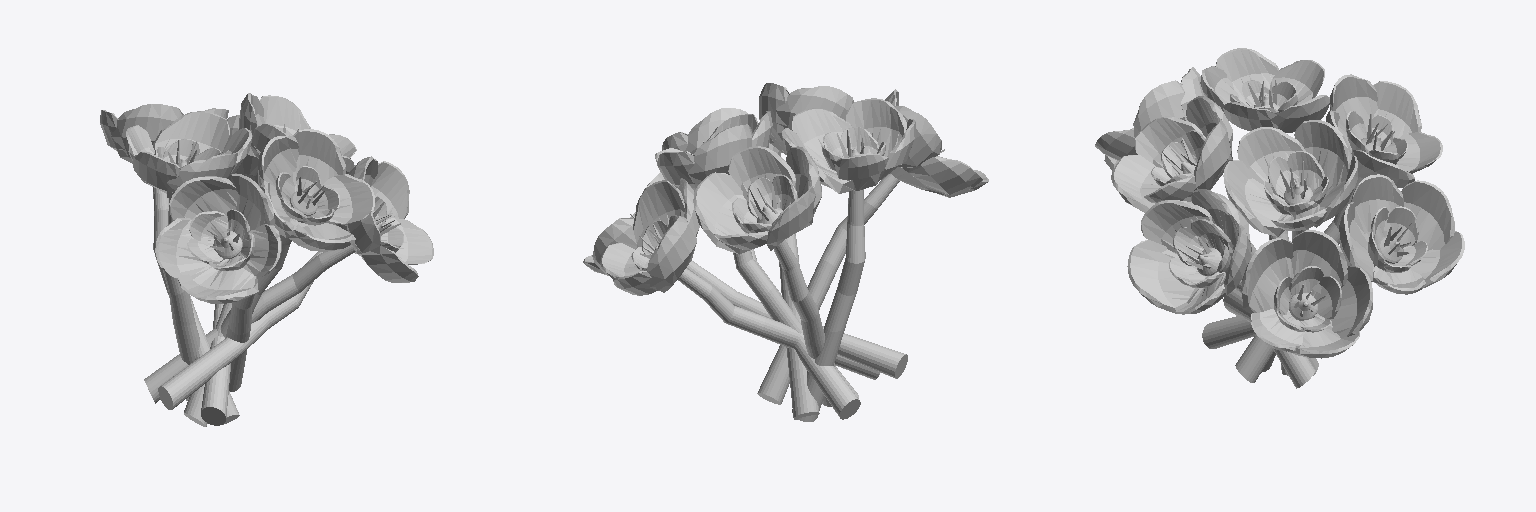
Rendered from Flowers.obj.
3 views of the same model, side by side, from view 1: azimuth 30°, elevation 25°; view 2: azimuth 150°, elevation 25°; view 3: azimuth 270°, elevation 25° (orthographic).
Visible parts, largest first — view 1: loftedSurface18, loftedSurface16, loftedSurface17, loftedSurface12, loftedSurface15, loftedSurface13, loftedSurface19, loftedSurface14; view 2: loftedSurface13, loftedSurface12, loftedSurface14, loftedSurface18, loftedSurface15, loftedSurface16, loftedSurface19, loftedSurface17; view 3: loftedSurface19, loftedSurface14, loftedSurface15, loftedSurface17, loftedSurface13, loftedSurface16, loftedSurface12, loftedSurface18.
Boxes of the visible parts, x1=… form: loftedSurface18: x1=155, y1=174, x2=281, y2=391; loftedSurface16: x1=186, y1=129, x2=374, y2=400; loftedSurface17: x1=144, y1=156, x2=433, y2=403; loftedSurface12: x1=126, y1=111, x2=251, y2=364; loftedSurface15: x1=184, y1=93, x2=356, y2=426; loftedSurface13: x1=100, y1=104, x2=239, y2=424; loftedSurface19: x1=158, y1=165, x2=356, y2=409; loftedSurface14: x1=201, y1=115, x2=258, y2=425; loftedSurface13: x1=693, y1=146, x2=835, y2=406; loftedSurface12: x1=782, y1=98, x2=915, y2=421; loftedSurface14: x1=600, y1=178, x2=879, y2=379; loftedSurface18: x1=757, y1=89, x2=988, y2=404; loftedSurface15: x1=655, y1=111, x2=858, y2=397; loftedSurface16: x1=759, y1=83, x2=853, y2=419; loftedSurface19: x1=583, y1=172, x2=907, y2=378; loftedSurface17: x1=662, y1=108, x2=860, y2=419; loftedSurface19: x1=1223, y1=230, x2=1372, y2=358; loftedSurface14: x1=1202, y1=174, x2=1464, y2=348; loftedSurface15: x1=1223, y1=120, x2=1357, y2=372; loftedSurface17: x1=1127, y1=189, x2=1251, y2=314; loftedSurface13: x1=1235, y1=74, x2=1442, y2=382; loftedSurface16: x1=1111, y1=96, x2=1318, y2=375; loftedSurface12: x1=1200, y1=48, x2=1329, y2=375; loftedSurface18: x1=1095, y1=67, x2=1315, y2=388.
Bounding box in the file's own units: 5.66 × 5.16 × 5.82.